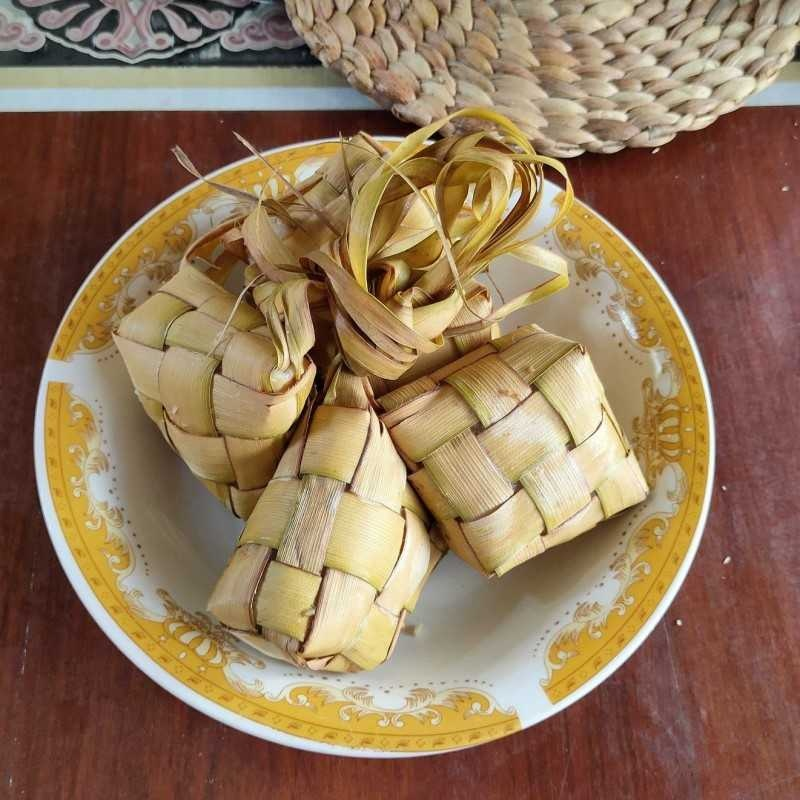ketupat: (204, 384, 445, 674), (377, 323, 651, 576)
